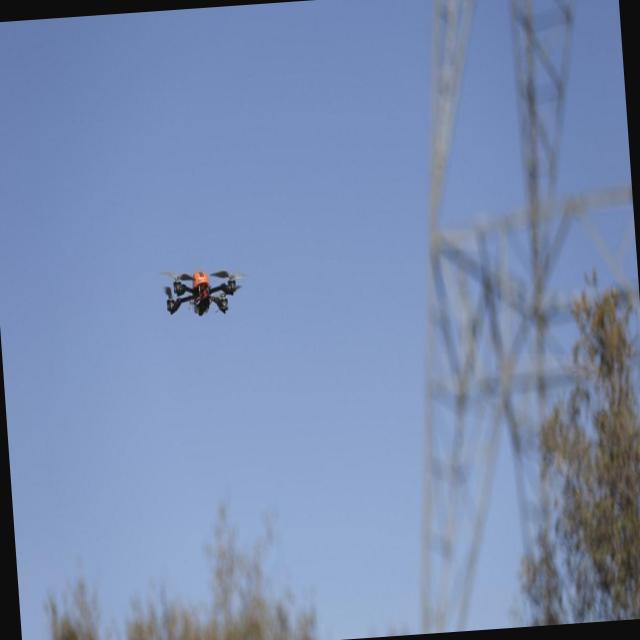drone: (158, 260, 246, 322)
